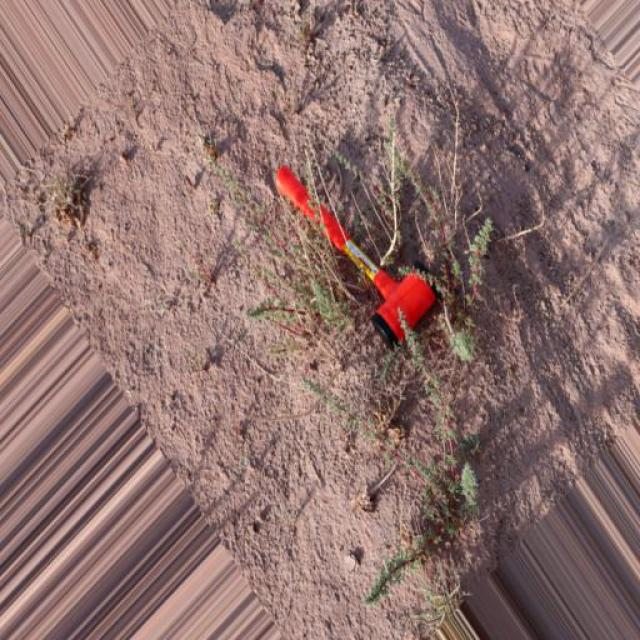mallet: (273, 162, 437, 346)
